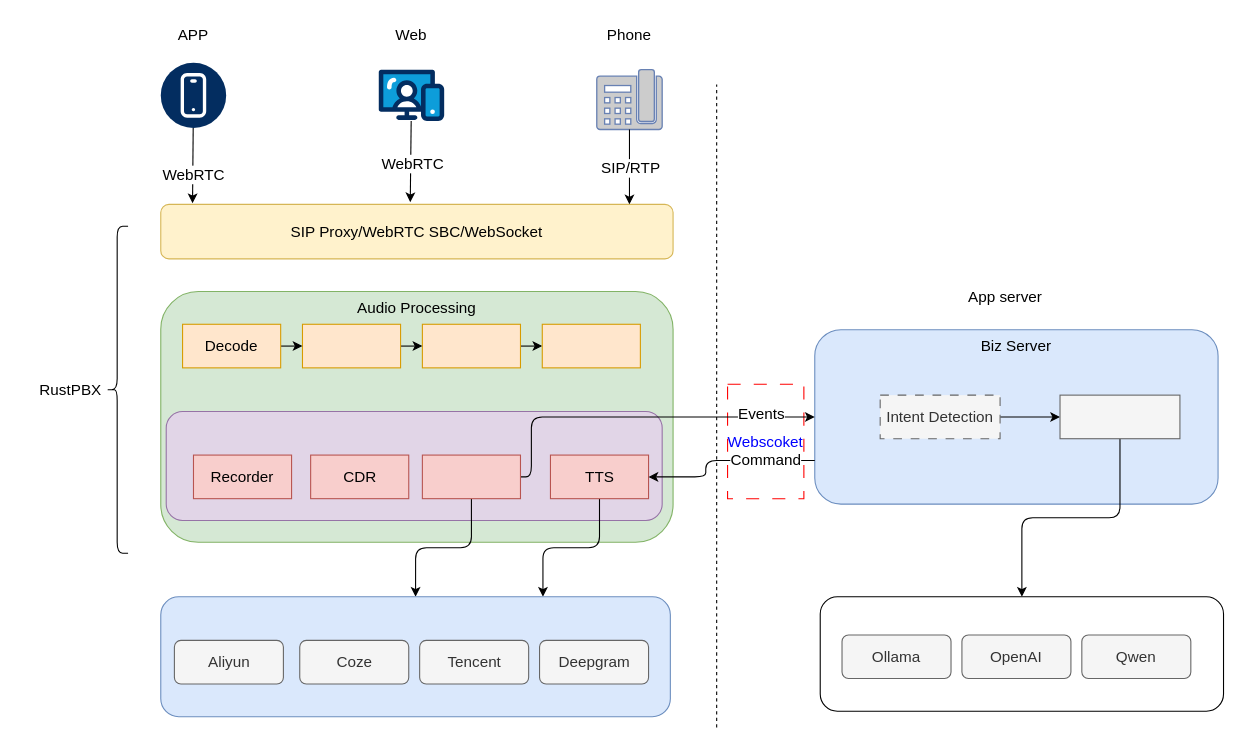
Some shapes in this 1243 by 748 pixel diagram are drawn without their labels. Here are the shapes that lost their labels. From the top down, the box of each, then its label:
(301, 323, 401, 368): Resampler
(421, 323, 520, 368): Noise Suppression
(541, 323, 640, 368): VAD Detector
(1059, 394, 1180, 439): LLM
(165, 410, 662, 520): Processor
(421, 454, 520, 499): ASR
(160, 596, 670, 717): ASR/TTS Provider
(819, 596, 1224, 711): LLM Provider
